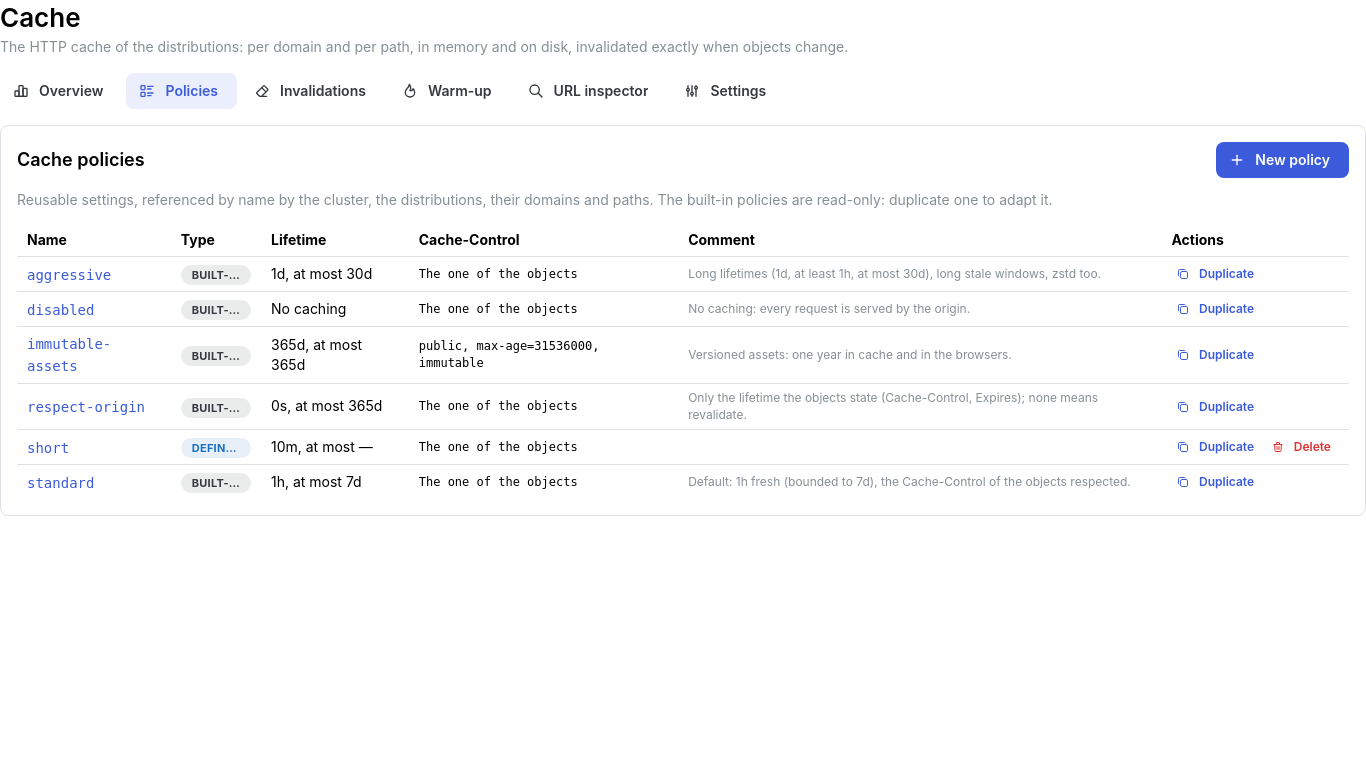
cache pages › D-CCH-03 lists the policies and refuses to delete one in use
Expected: the link "short" is shown, [27,440,69,456]
Expected: the text "Built-in" is shown 5 times, [192,266,240,284]; [192,301,240,319]; [192,347,240,365]; [192,398,240,416]; [192,474,240,492]
Click the button with aria-label "Delete short" at (1303, 447), box [1266,436,1339,458]
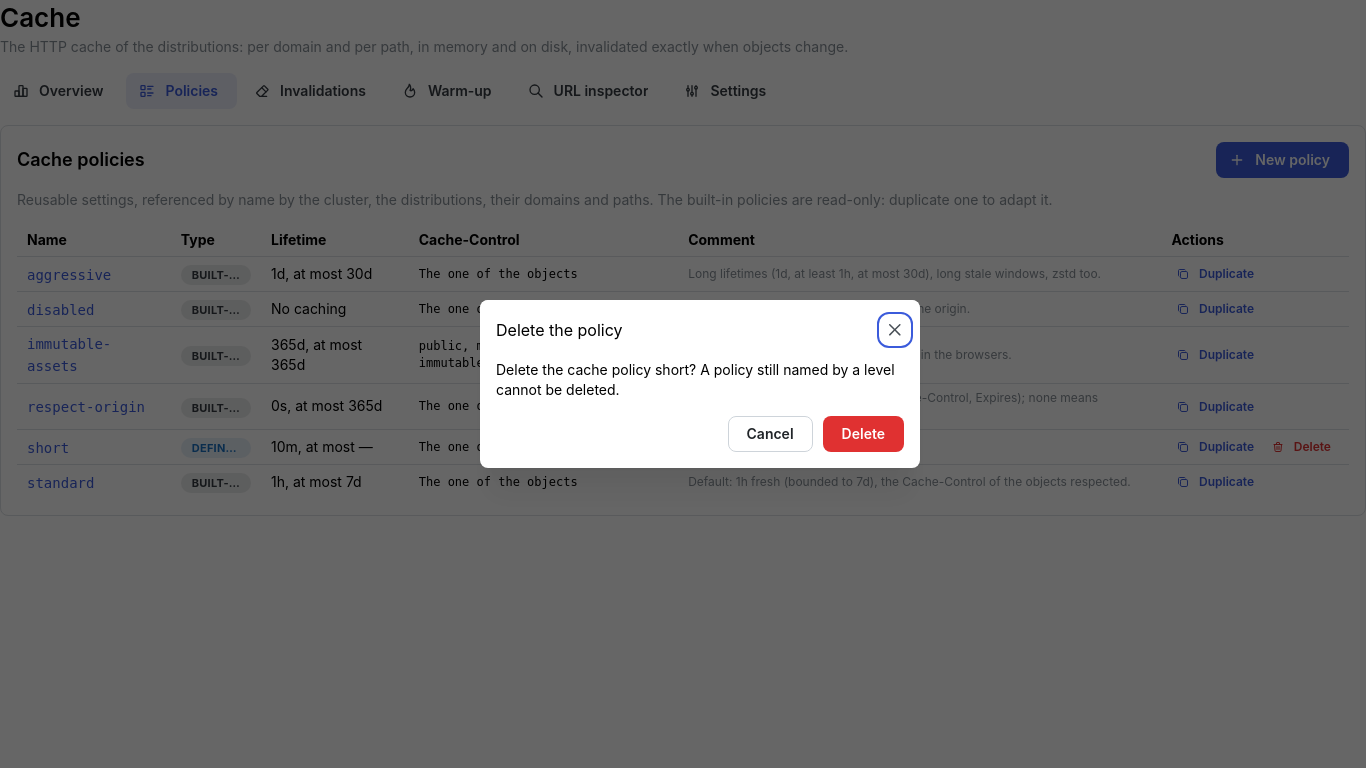
Click the button "Delete" at (863, 434), box [823,416,904,452]
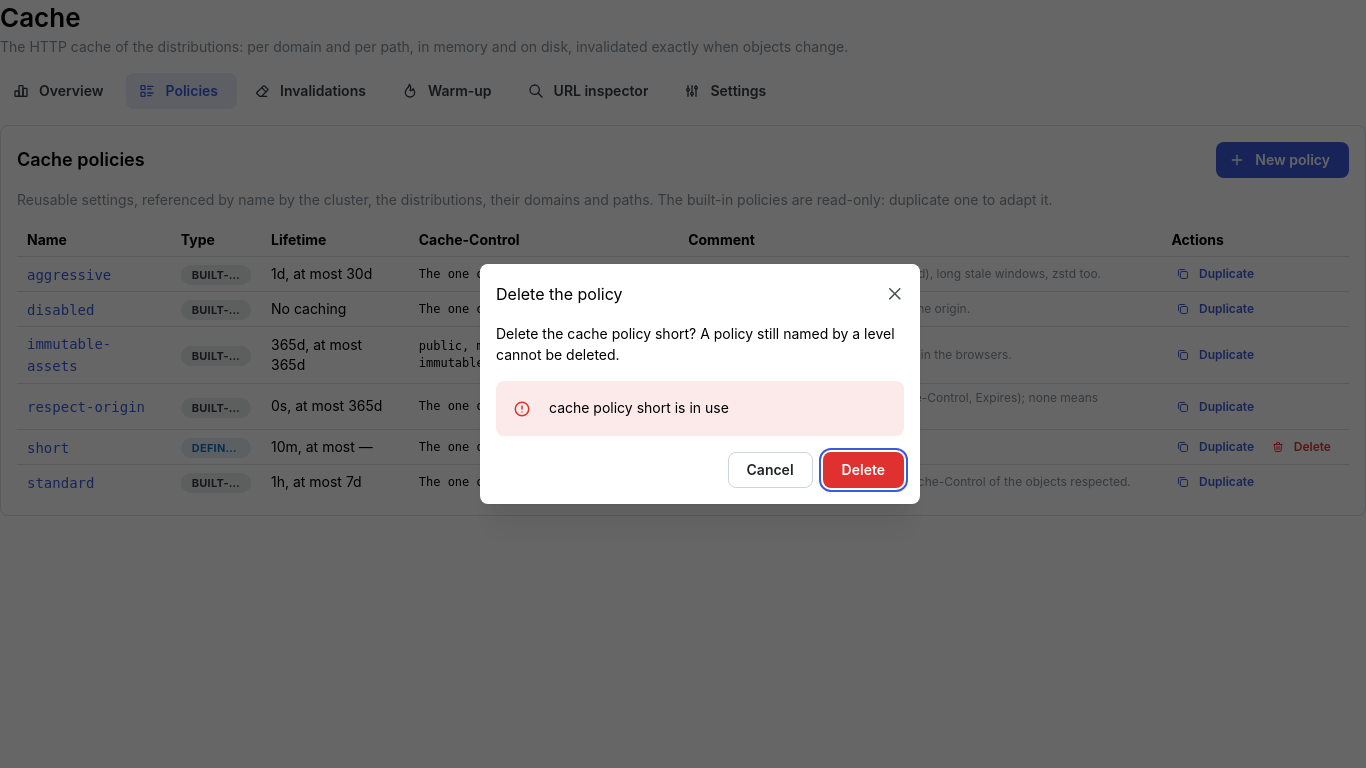
Expected: the text "cache policy short is in use" is shown, [549,398,729,418]
